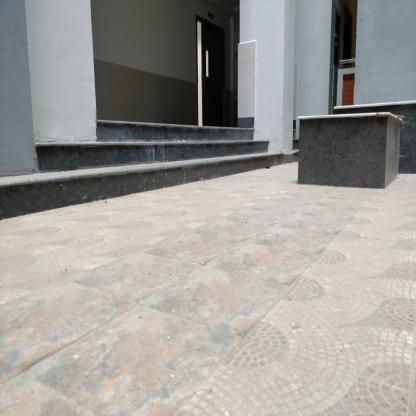stairs: (99, 129, 250, 189)
